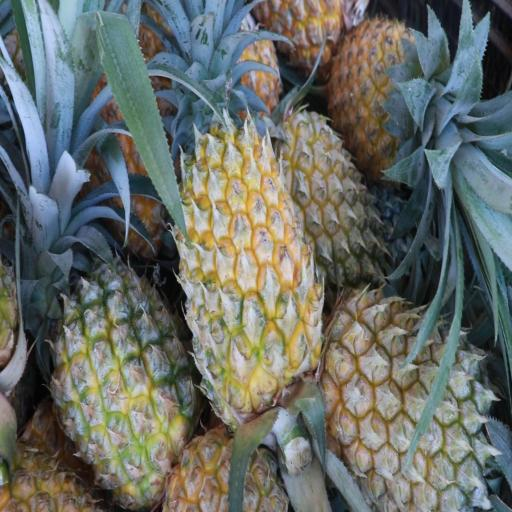Pineapple - v8 v1: (171, 122, 320, 419), (52, 266, 192, 494), (330, 16, 430, 164)
